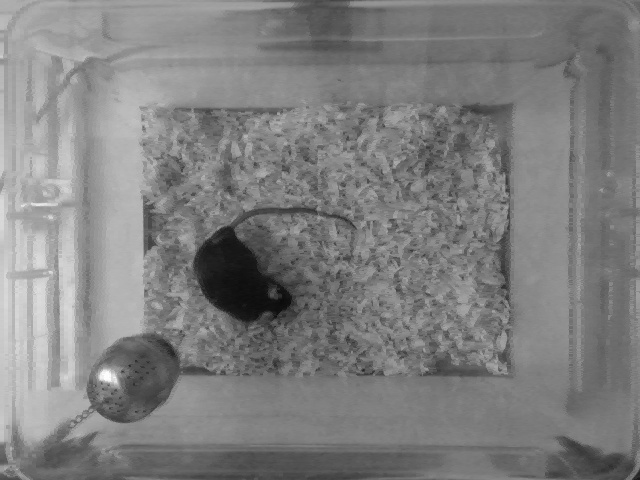mice: (187, 204, 359, 317)
